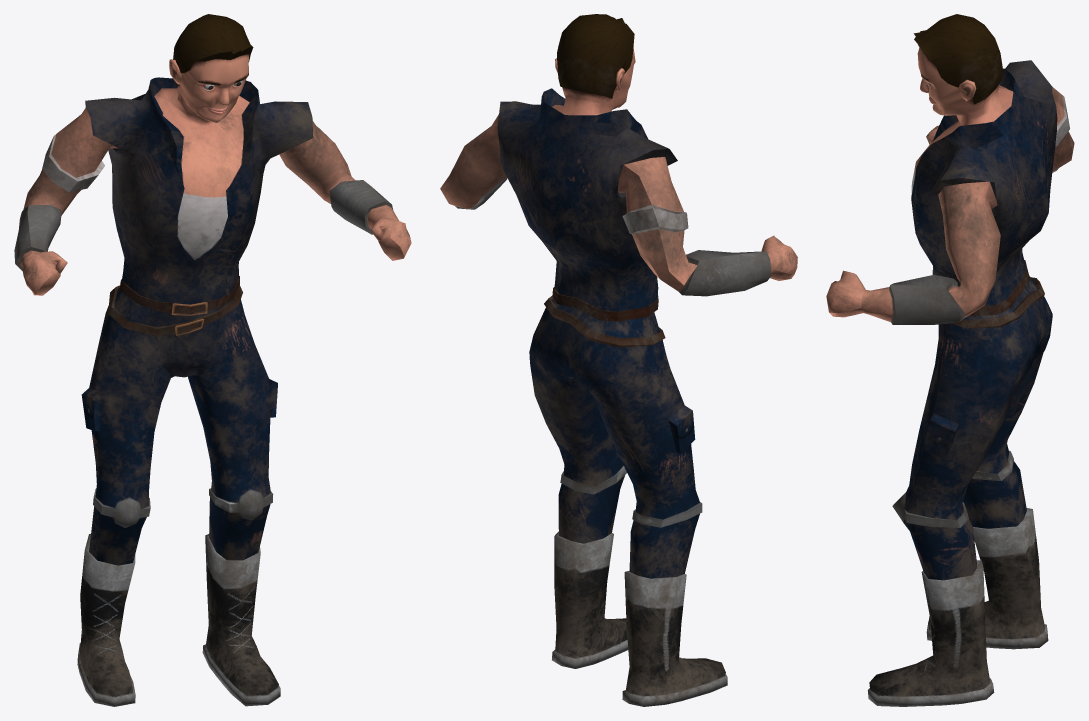
The model's file is Anim_especial_jugador.0009.obj.
The picture shows the model from 3 angles, left to right: view 1: azimuth 30°, elevation 25°; view 2: azimuth 150°, elevation 25°; view 3: azimuth 270°, elevation 25°; orthographic projection. The views are drawn at different scales.
Parts seen in each view (by area): view 1: polySurface1; view 2: polySurface1; view 3: polySurface1.
Part boxes in pixels (x1,y1,x2,y2): polySurface1: (14, 14, 411, 706); polySurface1: (440, 14, 797, 706); polySurface1: (826, 14, 1074, 706).
Bounding box in the file's own units: 5.27 × 9.56 × 3.19.
